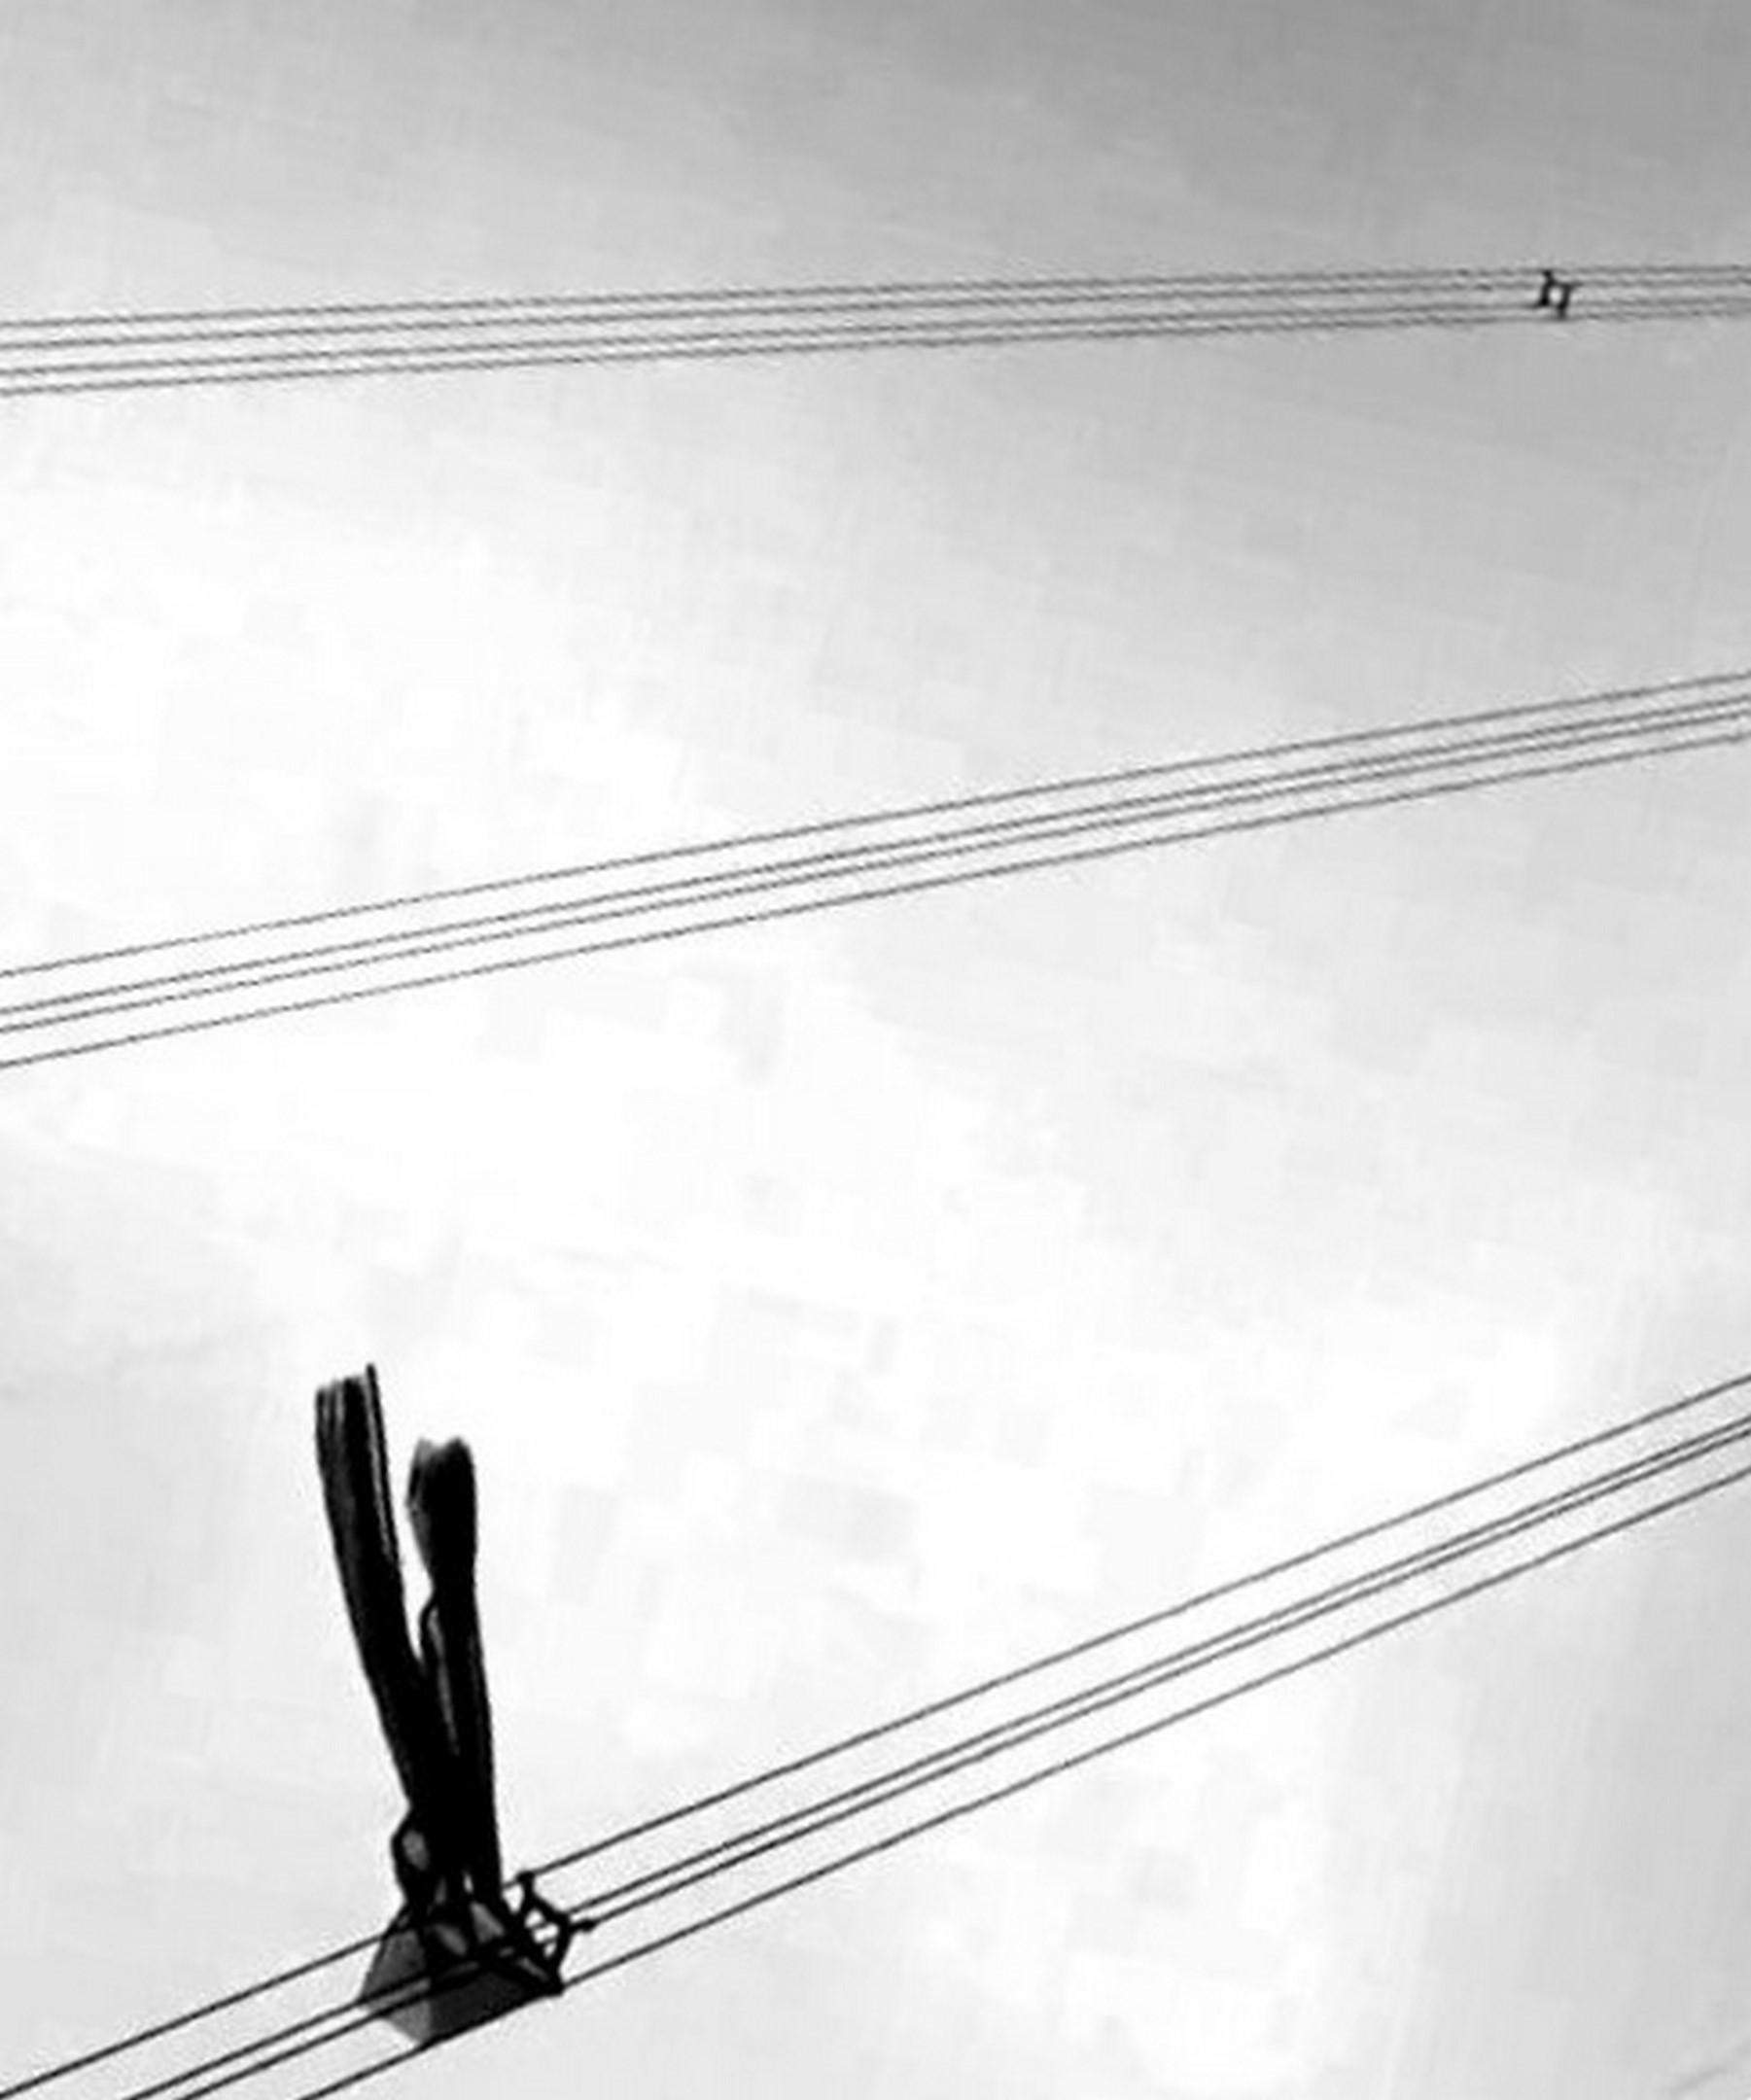wire foreign body: (256, 1348, 616, 2065)
